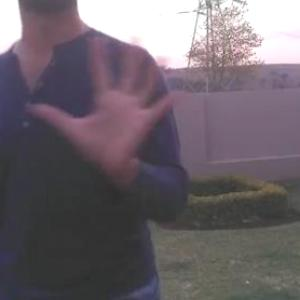follow_hand: (27, 29, 189, 178)
